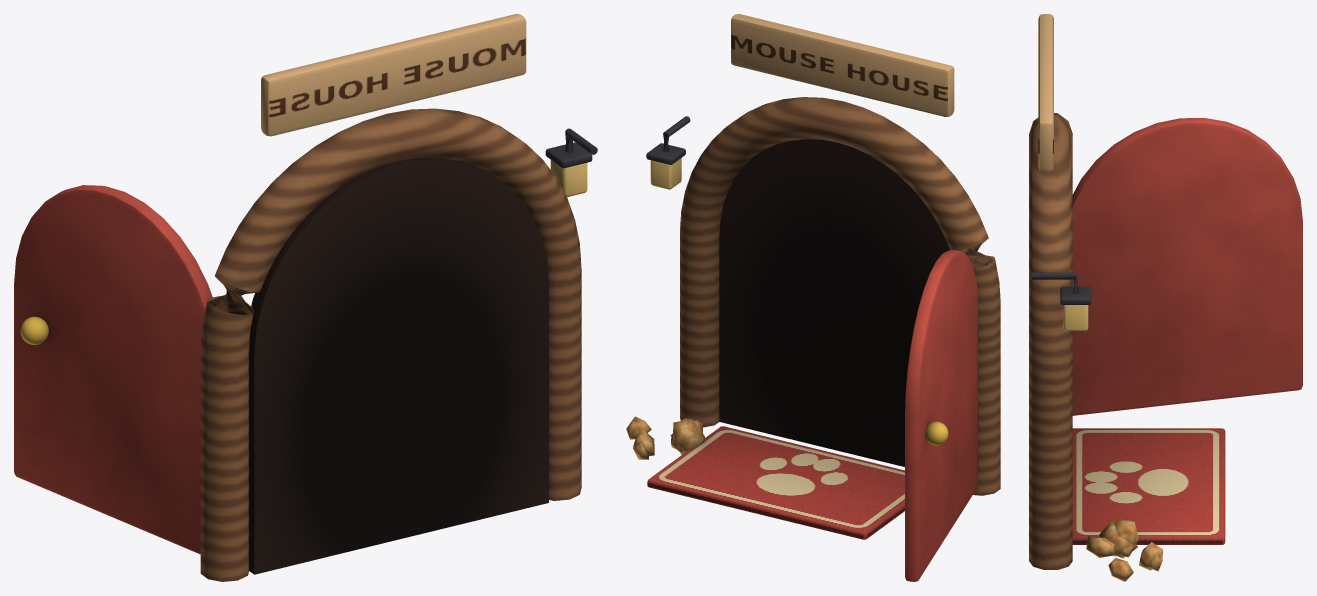
File: MouseHole_Home.fbx
3 views of the same model, side by side, from view 1: azimuth 30°, elevation 25°; view 2: azimuth 150°, elevation 25°; view 3: azimuth 270°, elevation 25° (orthographic). The views are drawn at different scales.
Parts seen in each view (by area): view 1: MouseHole_Home; view 2: MouseHole_Home; view 3: MouseHole_Home.
Part boxes in pixels (x1,y1,x2,y2): MouseHole_Home: [14, 14, 597, 581]; MouseHole_Home: [626, 14, 1000, 581]; MouseHole_Home: [1029, 14, 1302, 581].
Size of the model in its own units: 1.48 by 1.52 by 0.8789.
1 material, 1 textured.
